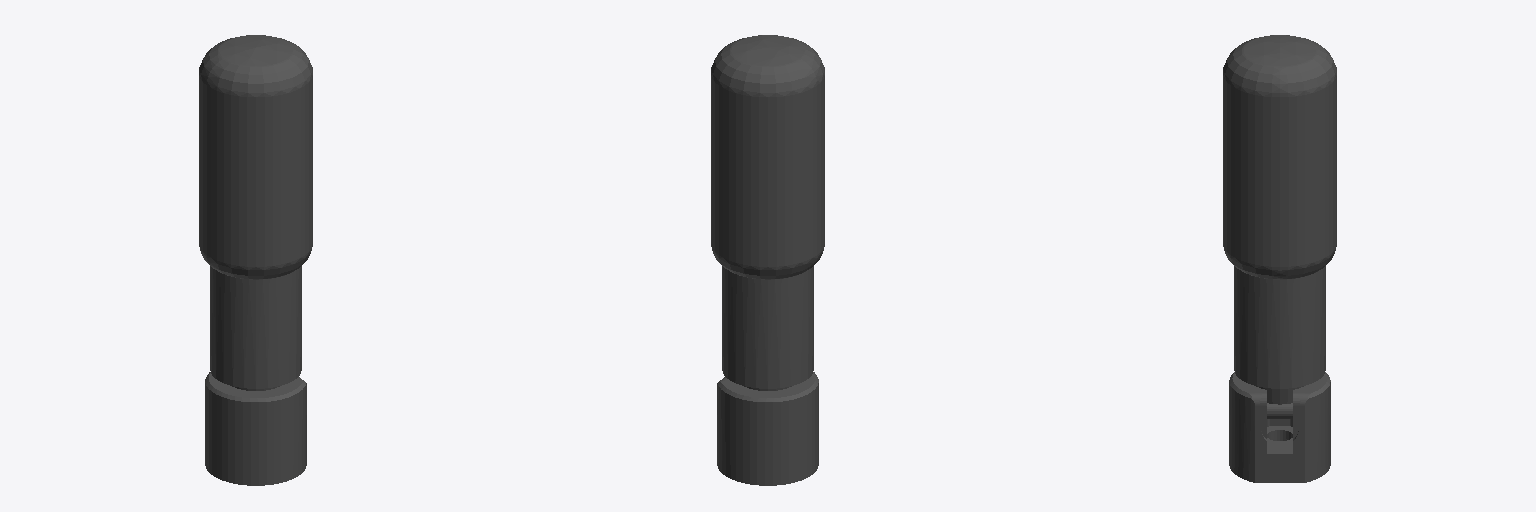
3 renders of one model, left to right at view 1: azimuth 30°, elevation 25°; view 2: azimuth 150°, elevation 25°; view 3: azimuth 270°, elevation 25°, orthographic.
Visible parts, largest first — view 1: gn_798_3-kt-18_2, gn_798_3-kt-18_1; view 2: gn_798_3-kt-18_2, gn_798_3-kt-18_1; view 3: gn_798_3-kt-18_2, gn_798_3-kt-18_1.
Part boxes in pixels (x1,y1,x2,y2): gn_798_3-kt-18_2: (199, 35, 312, 390); gn_798_3-kt-18_1: (205, 372, 306, 485); gn_798_3-kt-18_2: (711, 35, 824, 390); gn_798_3-kt-18_1: (717, 372, 818, 485); gn_798_3-kt-18_2: (1223, 35, 1336, 404); gn_798_3-kt-18_1: (1229, 372, 1330, 482).
Size of the model in its own units: 18 by 72.5 by 17.95.